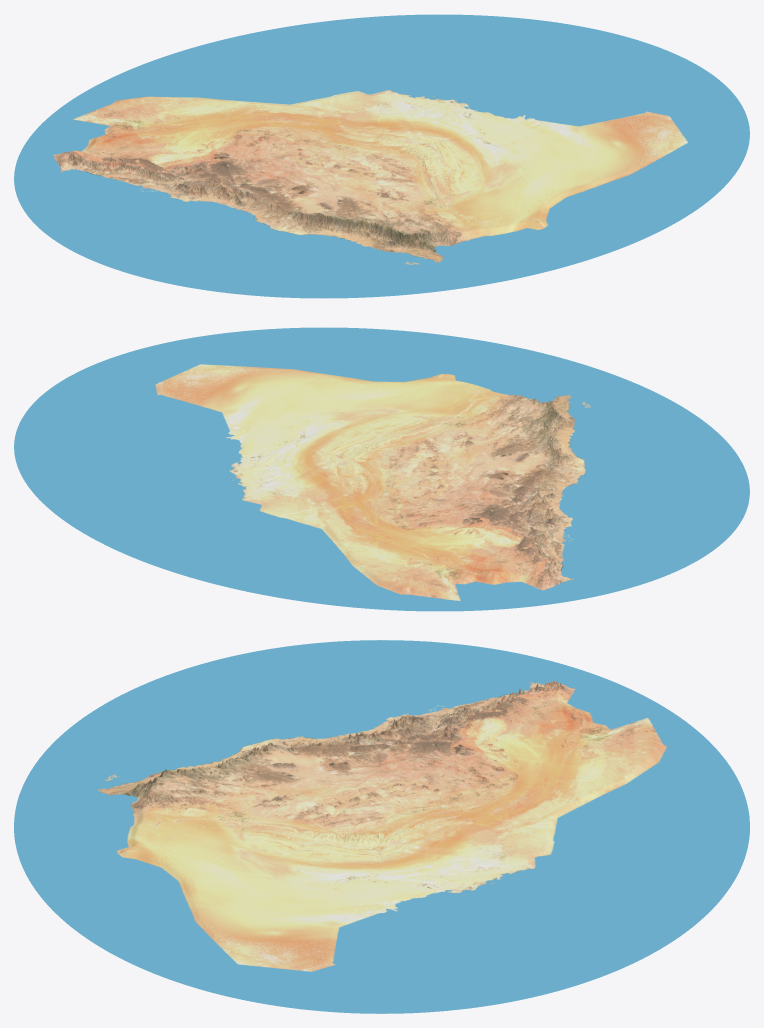
Rendered from SAU-previa-terrain.glb.
The picture shows the model from 3 angles, top to bottom: view 1: azimuth 30°, elevation 25°; view 2: azimuth 150°, elevation 25°; view 3: azimuth 270°, elevation 25°; orthographic projection. The views are drawn at different scales.
Parts seen in each view (by area): view 1: Arábia Saudita; view 2: Arábia Saudita; view 3: Arábia Saudita.
Part boxes in pixels (left/top/right/bottom): Arábia Saudita: left=14, top=14, right=749, bottom=298; Arábia Saudita: left=14, top=327, right=749, bottom=611; Arábia Saudita: left=14, top=640, right=749, bottom=1013.
Size of the model in its own units: 2.25 by 0.0408 by 1.87.
1 material, 1 textured.
